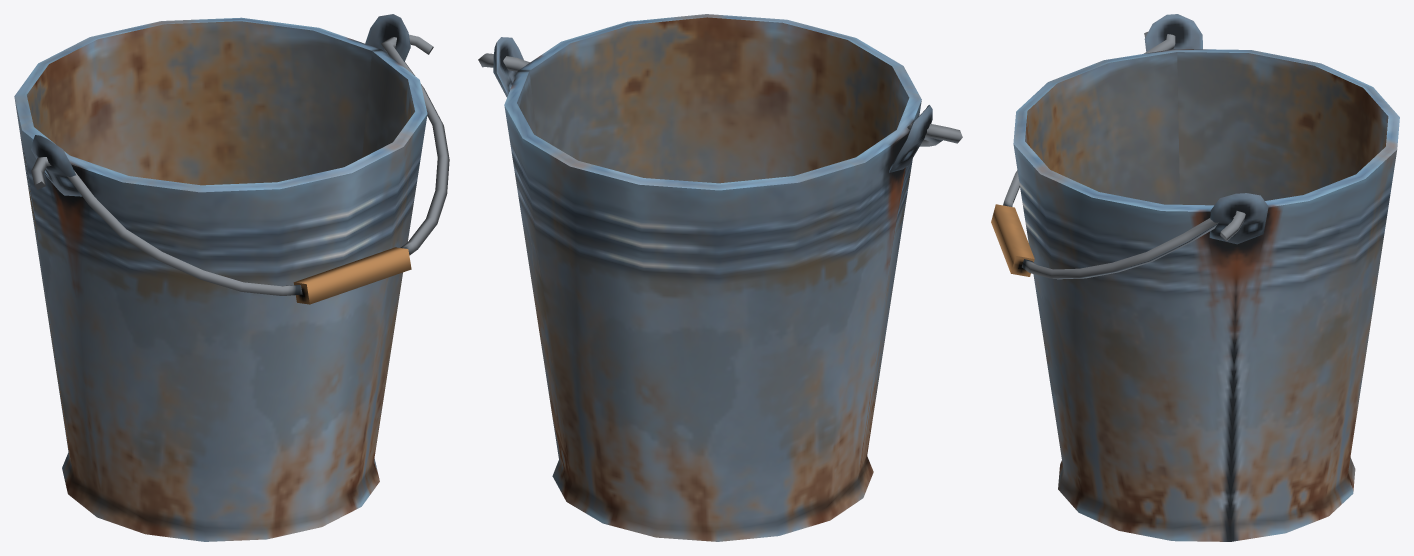
File: bucket.gltf
3 views of the same model, side by side, from view 1: azimuth 30°, elevation 25°; view 2: azimuth 150°, elevation 25°; view 3: azimuth 270°, elevation 25° (orthographic). The views are drawn at different scales.
Parts seen in each view (by area): view 1: bucket__1_, bucket_handle; view 2: bucket__1_, bucket_handle; view 3: bucket__1_, bucket_handle.
Boxes of the visible parts, x1,y1,x2,y2 form: bucket__1_: (14, 14, 427, 541); bucket_handle: (31, 34, 449, 304); bucket__1_: (493, 14, 932, 541); bucket_handle: (478, 53, 962, 146); bucket__1_: (1013, 14, 1399, 541); bucket_handle: (991, 32, 1245, 279).
Bounding box in the file's own units: 0.404 × 0.3486 × 0.3443.
Materials: 1 (1 with a texture image).
